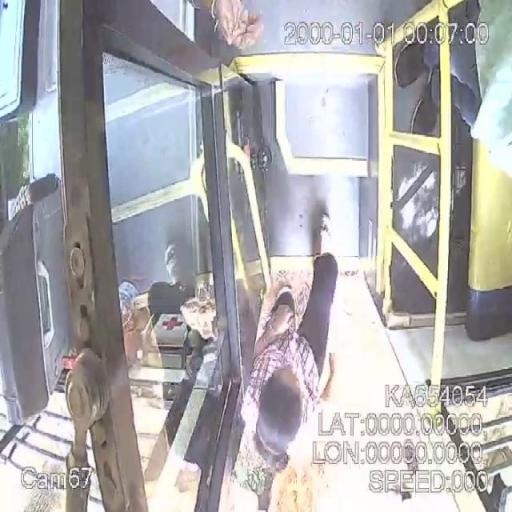persona: (247, 208, 350, 446)
